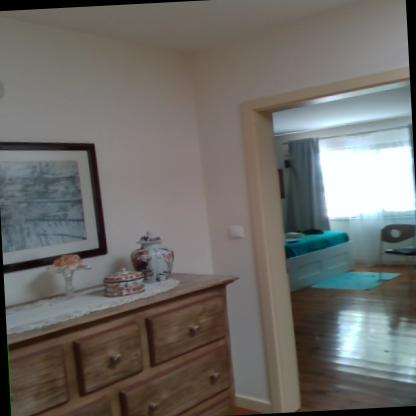open: (228, 65, 416, 413)
